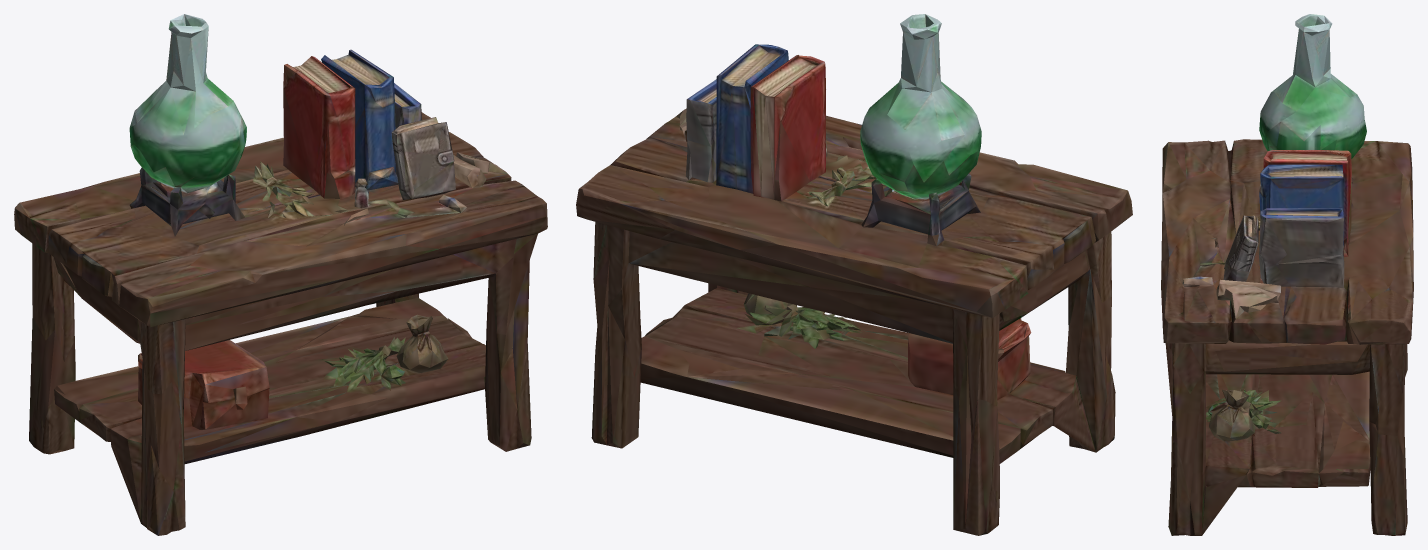
The model's file is alchemy_table_3d.glb.
The picture shows the model from 3 angles, left to right: view 1: azimuth 30°, elevation 25°; view 2: azimuth 150°, elevation 25°; view 3: azimuth 270°, elevation 25°; orthographic projection. The views are drawn at different scales.
Visible parts, largest first — view 1: Mesh_0; view 2: Mesh_0; view 3: Mesh_0.
Boxes of the visible parts, x1,y1,x2,y2 form: Mesh_0: (14,14,547,535); Mesh_0: (576,14,1132,535); Mesh_0: (1161,14,1413,535).
Size of the model in its own units: 1.11 by 1.12 by 0.6493.
1 material, 1 textured.
